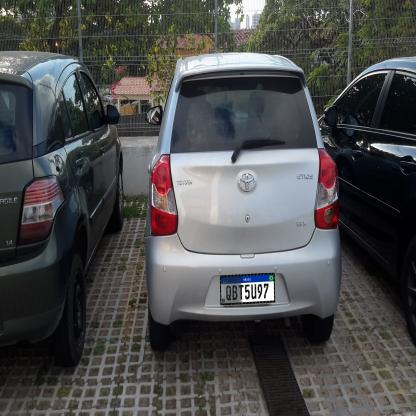PlacaM: (220, 273, 275, 305)
